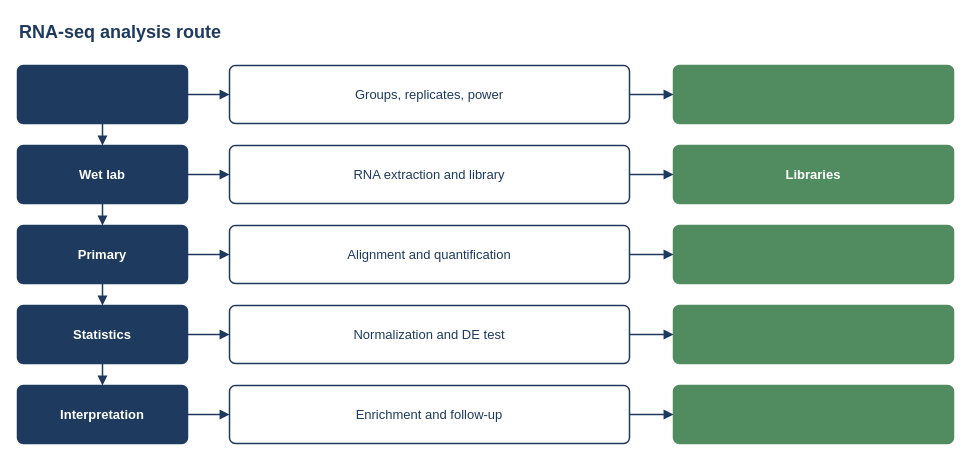
Some shapes in this 972 by 461 pixel diagram are drawn without their labels. The centre of each missing label's shape, as x and y in pixels:
"Biological story" goes at point 813,414.
"Count matrix" goes at point 813,254.
"Design" goes at point 102,94.
"Gene table" goes at point 813,334.
"Locked design" goes at point 813,94.
